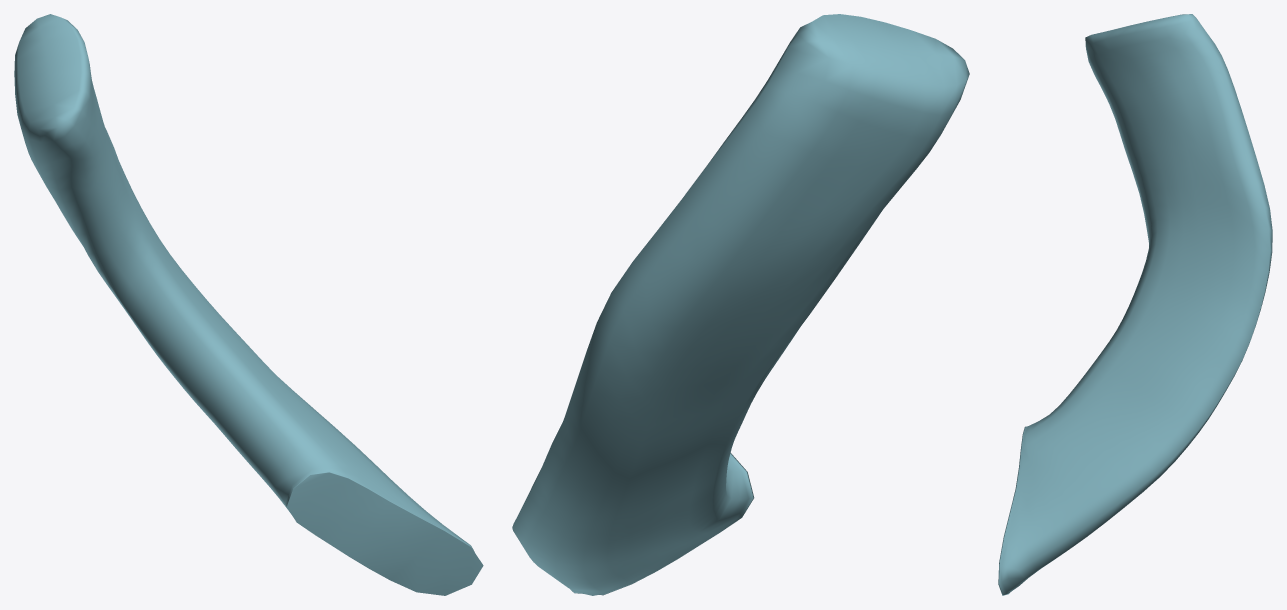
The picture shows the model from 3 angles, left to right: view 1: azimuth 30°, elevation 25°; view 2: azimuth 150°, elevation 25°; view 3: azimuth 270°, elevation 25°; orthographic projection. The views are drawn at different scales.
Parts seen in each view (by area): view 1: 右侧第十肋软骨; view 2: 右侧第十肋软骨; view 3: 右侧第十肋软骨.
Boxes of the visible parts, x1,y1,x2,y2 form: 右侧第十肋软骨: (14, 14, 483, 595); 右侧第十肋软骨: (512, 14, 969, 595); 右侧第十肋软骨: (998, 14, 1272, 595).
Size of the model in its own units: 0.0694 by 0.0993 by 0.0529.
